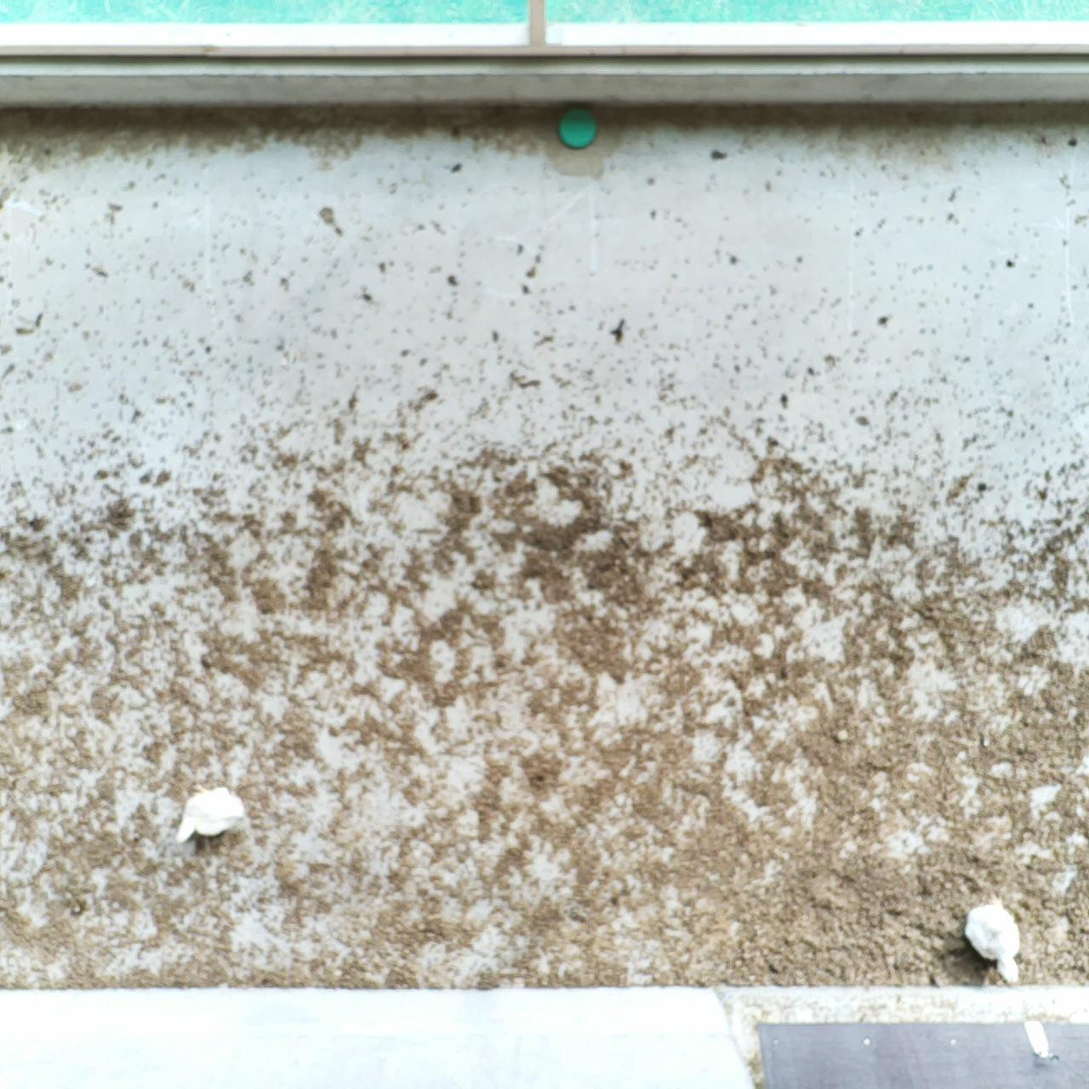chicken: (163, 776, 256, 855), (954, 892, 1028, 989)
